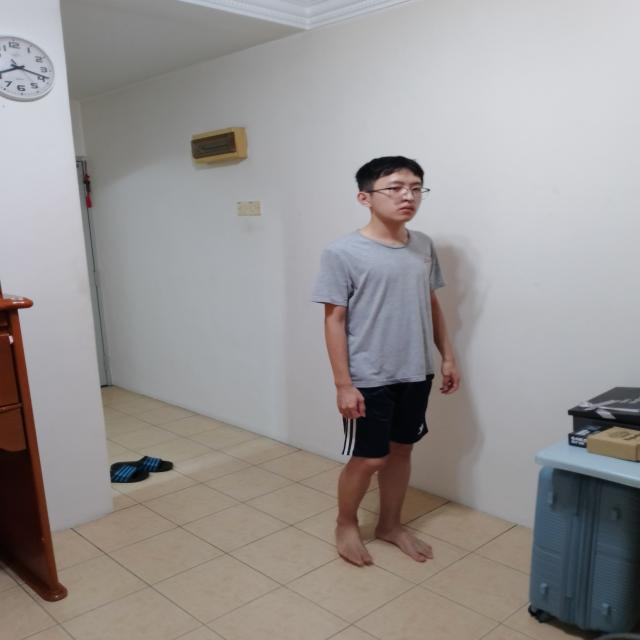person_without_labcoat: (312, 156, 460, 566)
